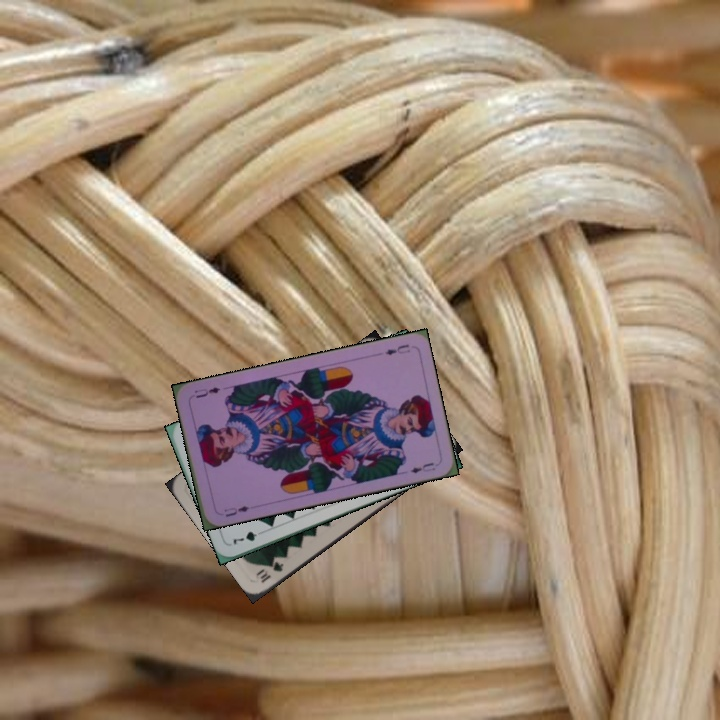EU: (220, 502, 256, 519), (381, 340, 413, 357)
G10: (253, 557, 286, 586)
G7: (229, 527, 267, 547)
